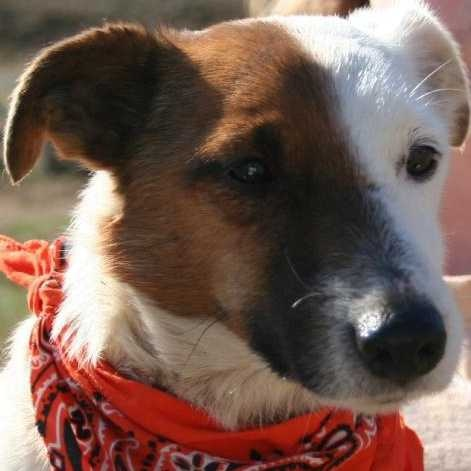Dog: (17, 0, 469, 425)
